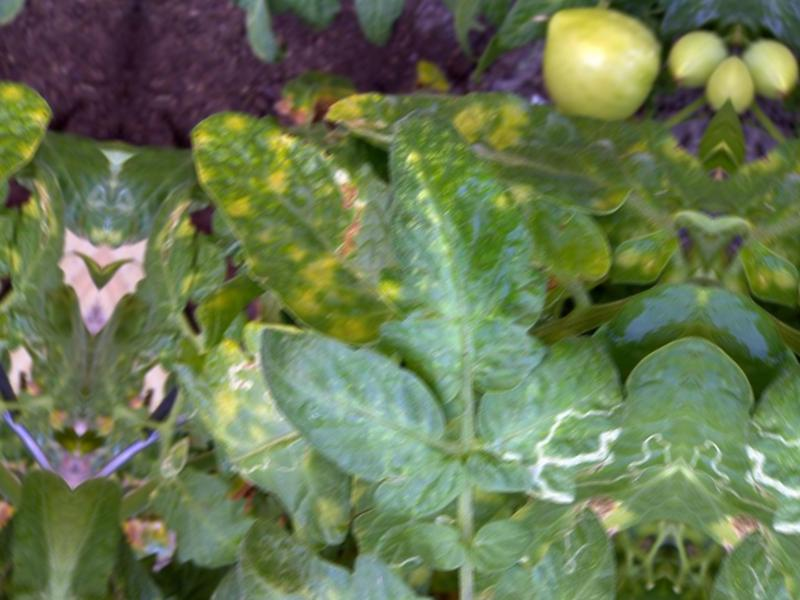Tomato mold leaf: (355, 91, 580, 420), (162, 94, 441, 350), (234, 310, 468, 512), (191, 492, 472, 600), (474, 485, 637, 600)
